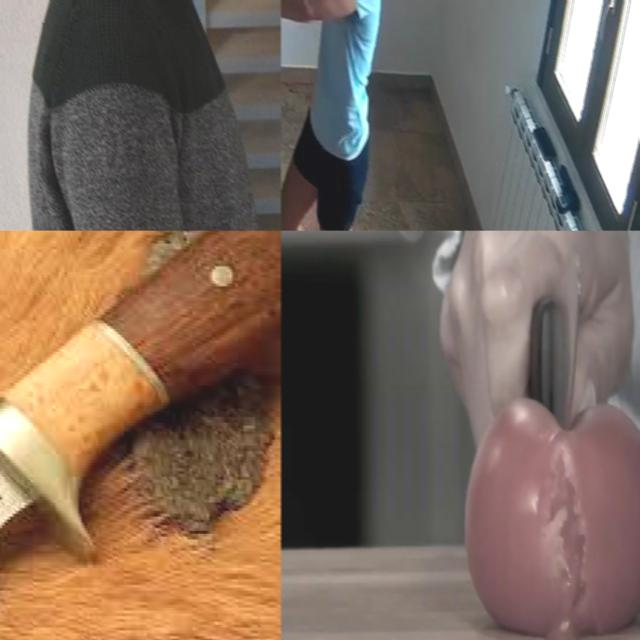Knife_Handle: (438, 230, 635, 422)
